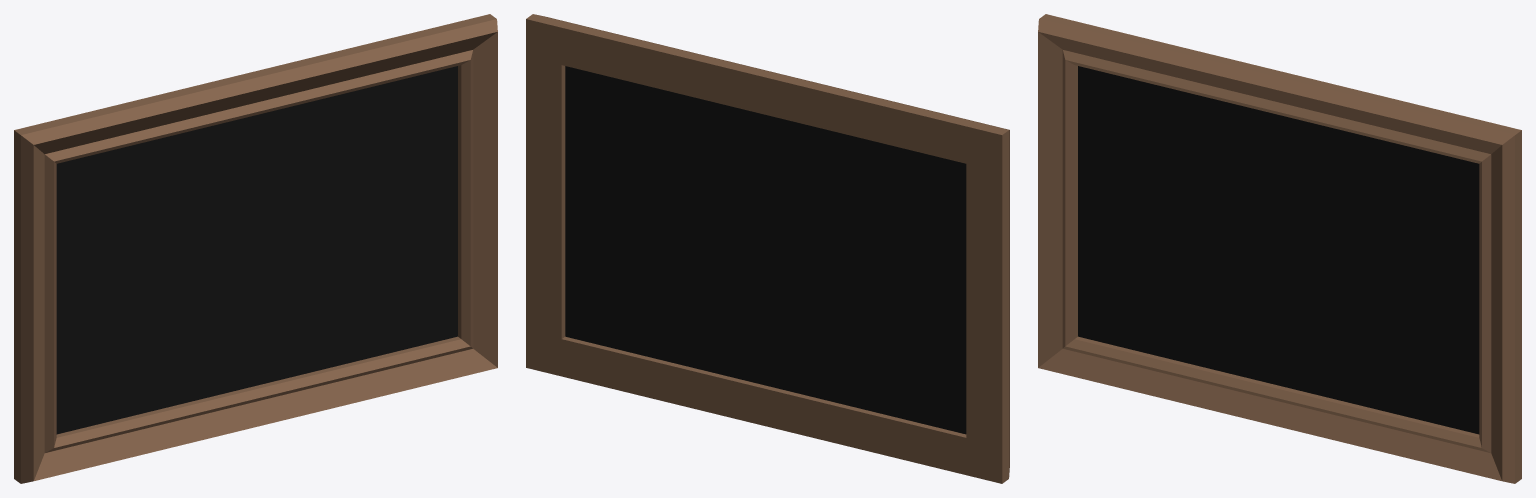
File: Prop_Misc_Picture_Landscape.obj
The picture shows the model from 3 angles, left to right: view 1: azimuth 30°, elevation 25°; view 2: azimuth 150°, elevation 25°; view 3: azimuth 330°, elevation 25°; orthographic projection.
Parts seen in each view (by area): view 1: object1, object2; view 2: object1, object2; view 3: object1, object2.
Part boxes in pixels (x1=…): object1: x1=56, y1=66, x2=457, y2=434; object2: x1=14, y1=14, x2=497, y2=483; object1: x1=565, y1=66, x2=966, y2=434; object2: x1=526, y1=14, x2=1009, y2=483; object1: x1=1078, y1=66, x2=1479, y2=434; object2: x1=1038, y1=14, x2=1521, y2=483.
Size of the model in its own units: 1 by 0.7 by 0.05.
